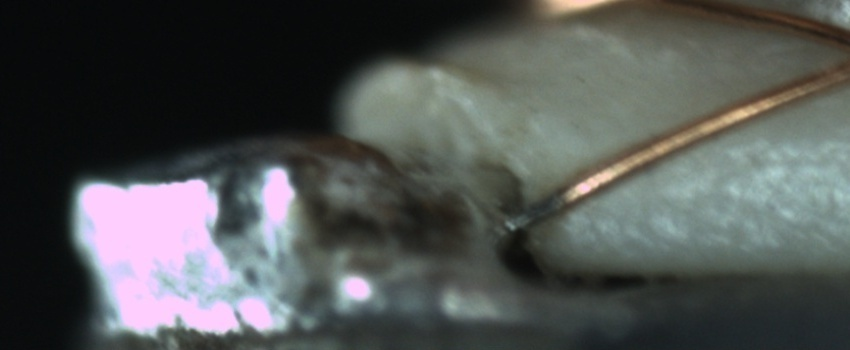CL: (832, 26, 850, 76)
DL: (701, 123, 849, 189)
TS: (508, 194, 564, 231)
